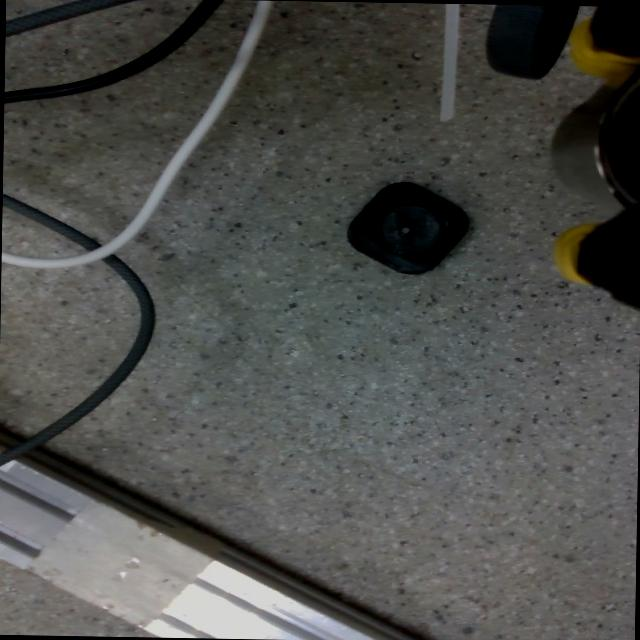cell: (346, 180, 469, 275)
